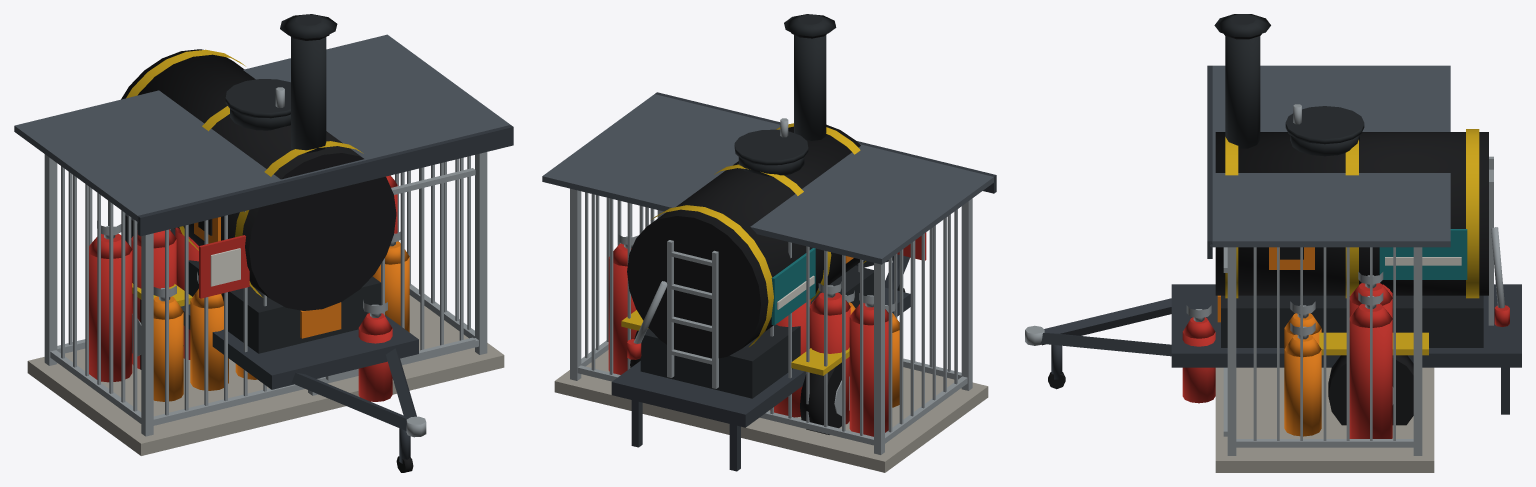
The model's file is roadworks.glb.
3 renders of one model, left to right at view 1: azimuth 30°, elevation 25°; view 2: azimuth 150°, elevation 25°; view 3: azimuth 270°, elevation 25°, orthographic. The views are drawn at different scales.
Parts seen in each view (by area): view 1: works_gascage, works_tar; view 2: works_gascage, works_tar; view 3: works_gascage, works_tar.
Boxes of the visible parts, bbox=[...] form: works_gascage: bbox=[14, 34, 513, 455]; works_tar: bbox=[121, 14, 426, 472]; works_gascage: bbox=[542, 92, 996, 472]; works_tar: bbox=[611, 14, 910, 471]; works_gascage: bbox=[1207, 65, 1450, 472]; works_tar: bbox=[1025, 14, 1521, 425].
Size of the model in its own units: 3.8 by 3.71 by 4.54.
